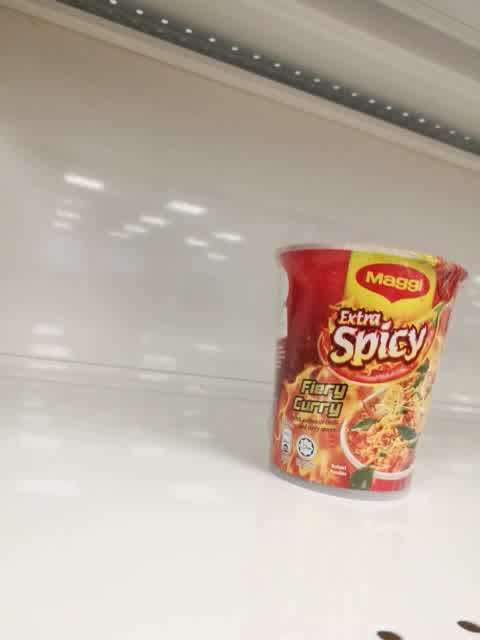maggi: (268, 244, 469, 501)
